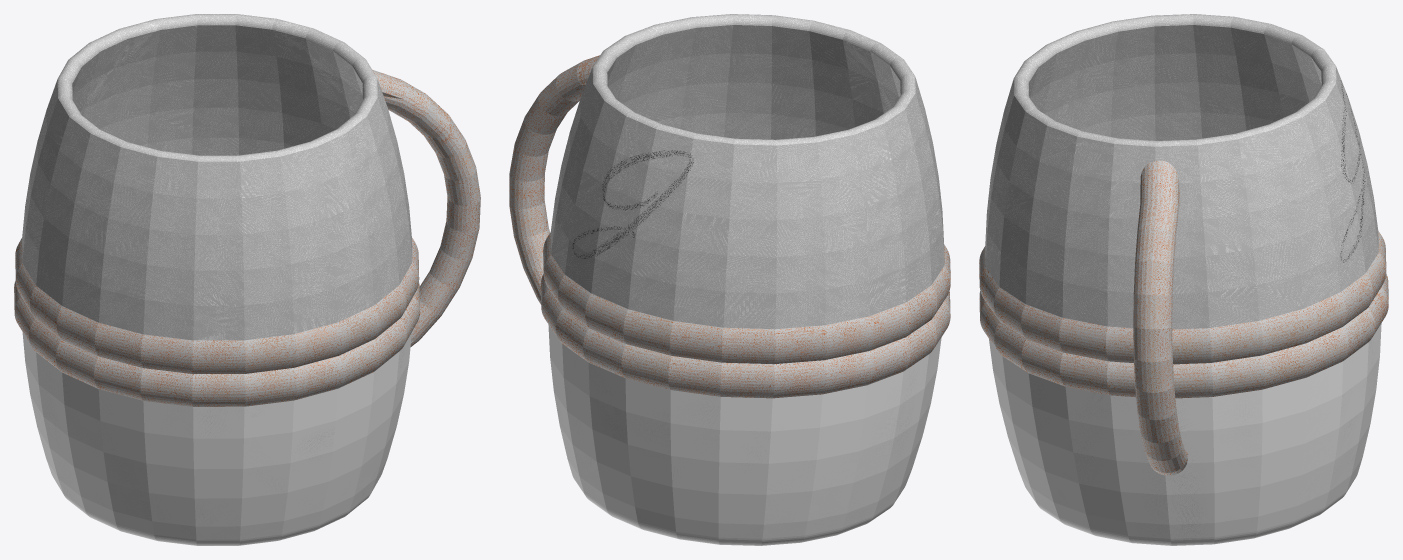
3 renders of one model, left to right at view 1: azimuth 30°, elevation 25°; view 2: azimuth 150°, elevation 25°; view 3: azimuth 270°, elevation 25°, orthographic.
Parts seen in each view (by area): view 1: mesh1.001_mesh1-geometry; view 2: mesh1.001_mesh1-geometry; view 3: mesh1.001_mesh1-geometry.
Boxes of the visible parts, <box> form: mesh1.001_mesh1-geometry: <box>14,14,480,545</box>; mesh1.001_mesh1-geometry: <box>509,14,950,545</box>; mesh1.001_mesh1-geometry: <box>979,14,1388,545</box>.
Size of the model in its own units: 0.625 by 0.581 by 0.5214.
